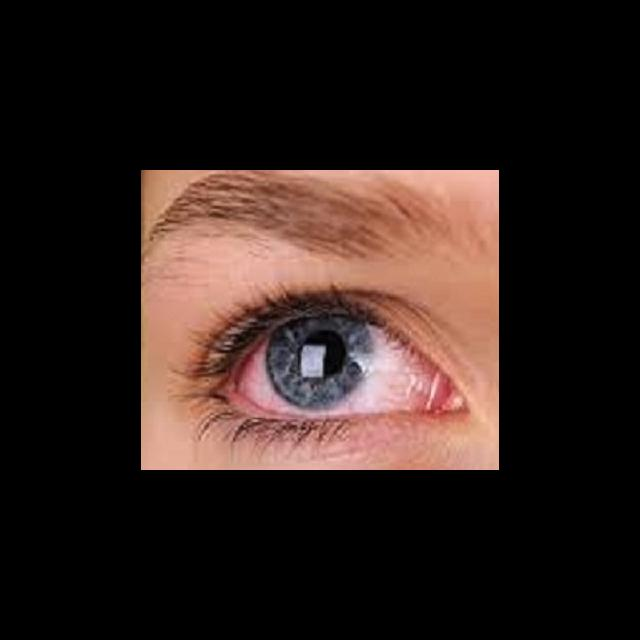eye: (233, 313, 431, 419)
iris: (265, 317, 377, 411)
